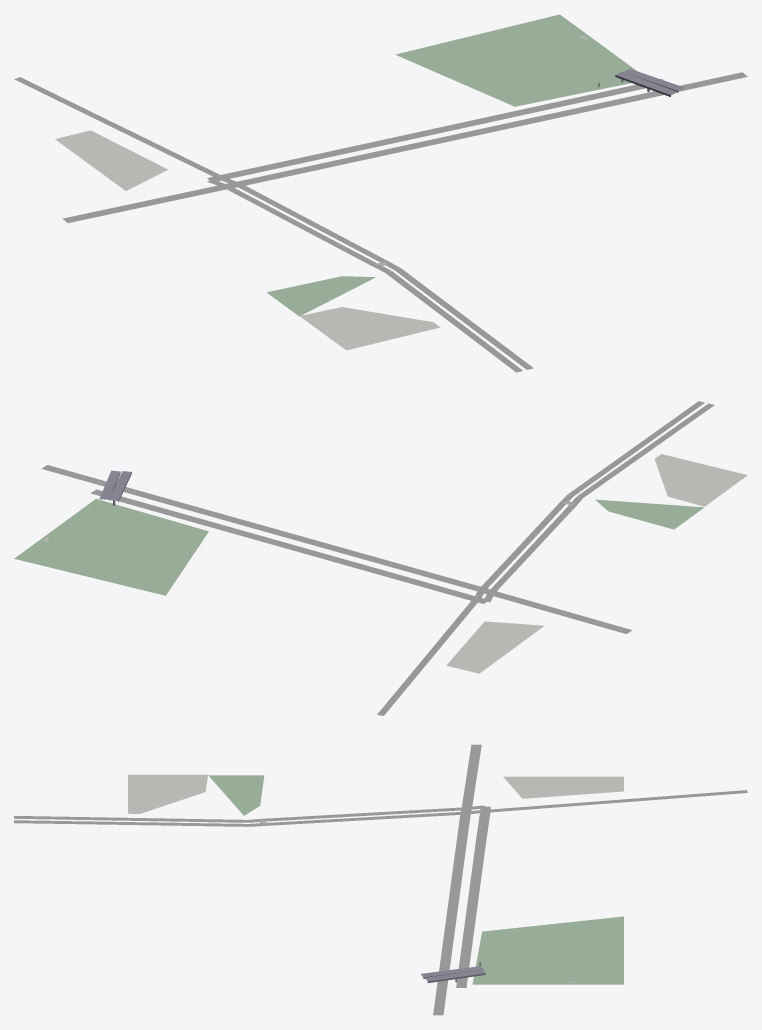
The picture shows the model from 3 angles, top to bottom: view 1: azimuth 30°, elevation 25°; view 2: azimuth 150°, elevation 25°; view 3: azimuth 270°, elevation 25°; orthographic projection. The views are drawn at different scales.
Size of the model in its own units: 652 by 10.26 by 740.
